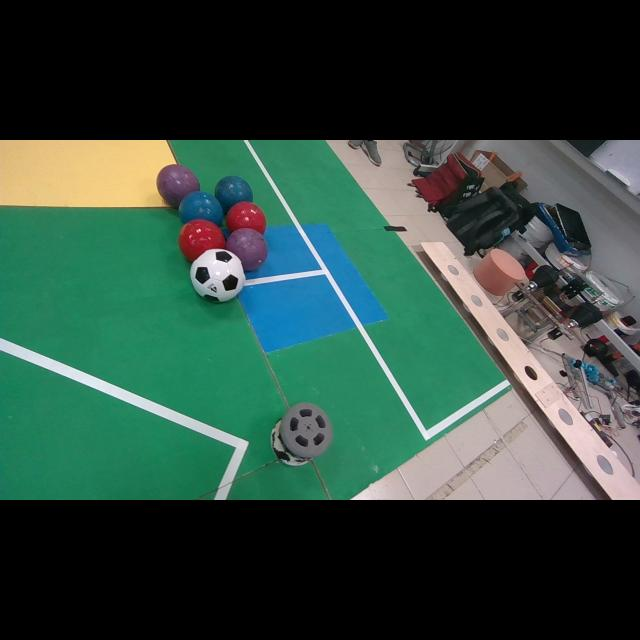B: (179, 191, 224, 226), (215, 176, 252, 213)
P: (156, 164, 200, 208), (226, 229, 266, 271)
R: (178, 219, 225, 261), (226, 201, 266, 234)
